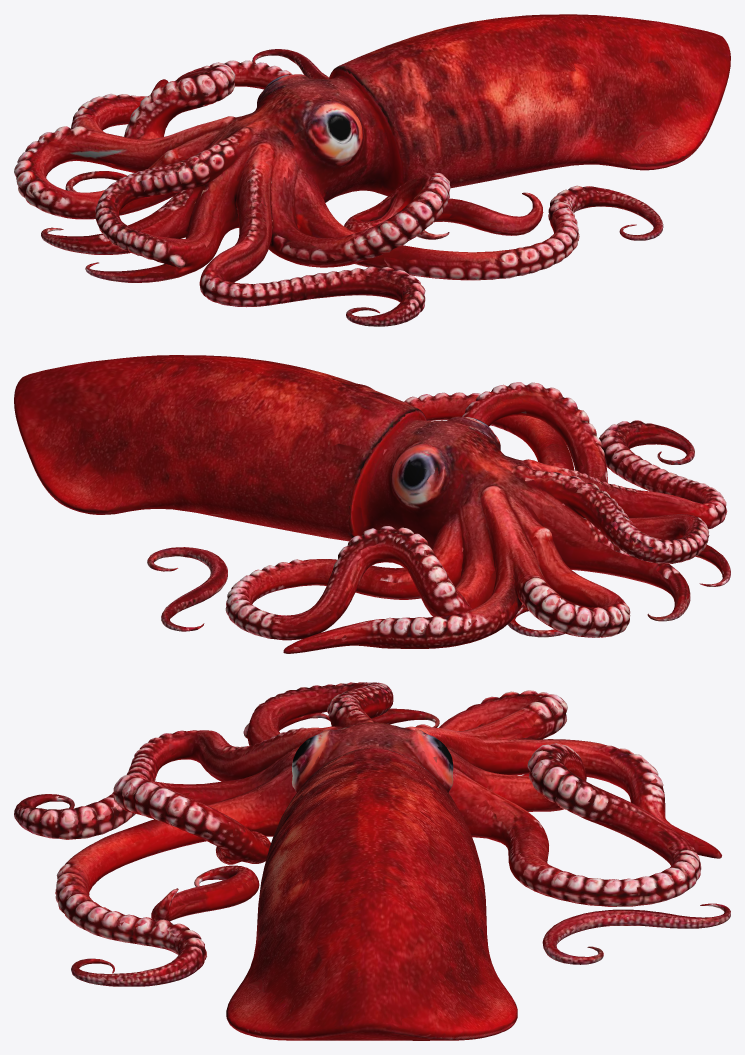
Rendered from squid.glb.
The picture shows the model from 3 angles, top to bottom: view 1: azimuth 30°, elevation 25°; view 2: azimuth 150°, elevation 25°; view 3: azimuth 270°, elevation 25°; orthographic projection. The views are drawn at different scales.
Parts seen in each view (by area): view 1: squid; view 2: squid; view 3: squid.
Part boxes in pixels (x1,y1,x2,y2): squid: (14,14,730,326); squid: (14,355,730,653); squid: (14,682,730,1040).
Size of the model in its own units: 1 by 0.1905 by 0.8154.
Materials: 1 (1 with a texture image).
